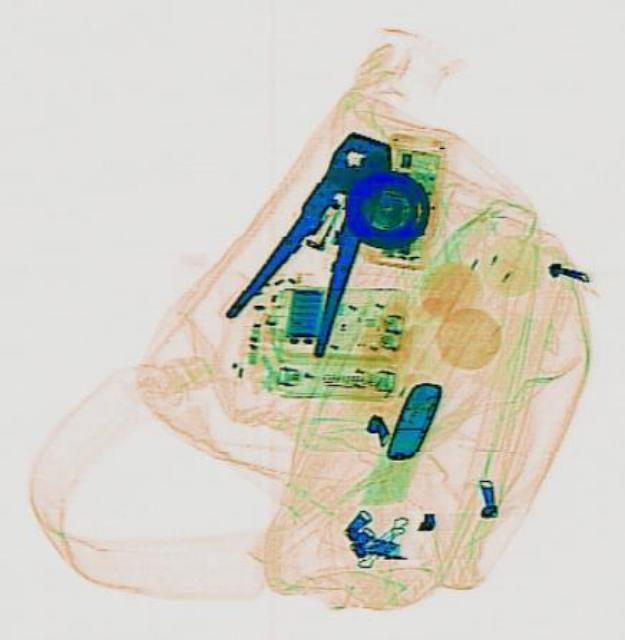Pliers: (219, 113, 416, 359)
